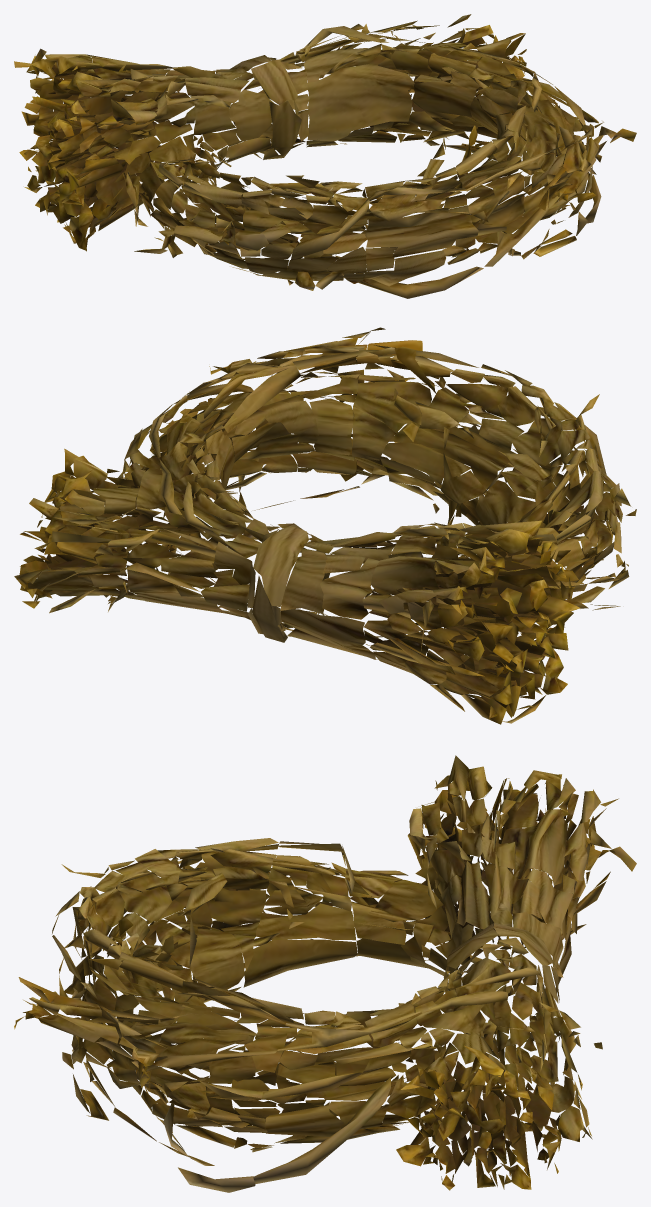
Rendered from kelp_fiber.glb.
3 views of the same model, one above another, from view 1: azimuth 30°, elevation 25°; view 2: azimuth 150°, elevation 25°; view 3: azimuth 270°, elevation 25° (orthographic). The views are drawn at different scales.
Parts seen in each view (by area): view 1: tripo_node_ab6bd2ab-4ceb-4ff6-97fa-8e1b7350a1bd; view 2: tripo_node_ab6bd2ab-4ceb-4ff6-97fa-8e1b7350a1bd; view 3: tripo_node_ab6bd2ab-4ceb-4ff6-97fa-8e1b7350a1bd.
Part boxes in pixels (x1=…): tripo_node_ab6bd2ab-4ceb-4ff6-97fa-8e1b7350a1bd: x1=14, y1=14, x2=636, y2=298; tripo_node_ab6bd2ab-4ceb-4ff6-97fa-8e1b7350a1bd: x1=14, y1=327, x2=636, y2=724; tripo_node_ab6bd2ab-4ceb-4ff6-97fa-8e1b7350a1bd: x1=14, y1=755, x2=636, y2=1192.
Bounding box in the file's own units: 0.9893 × 0.3381 × 0.9176.
1 material, 1 textured.
